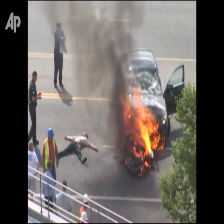fire_h: (121, 81, 163, 158)
fire_l: (139, 159, 150, 174)
